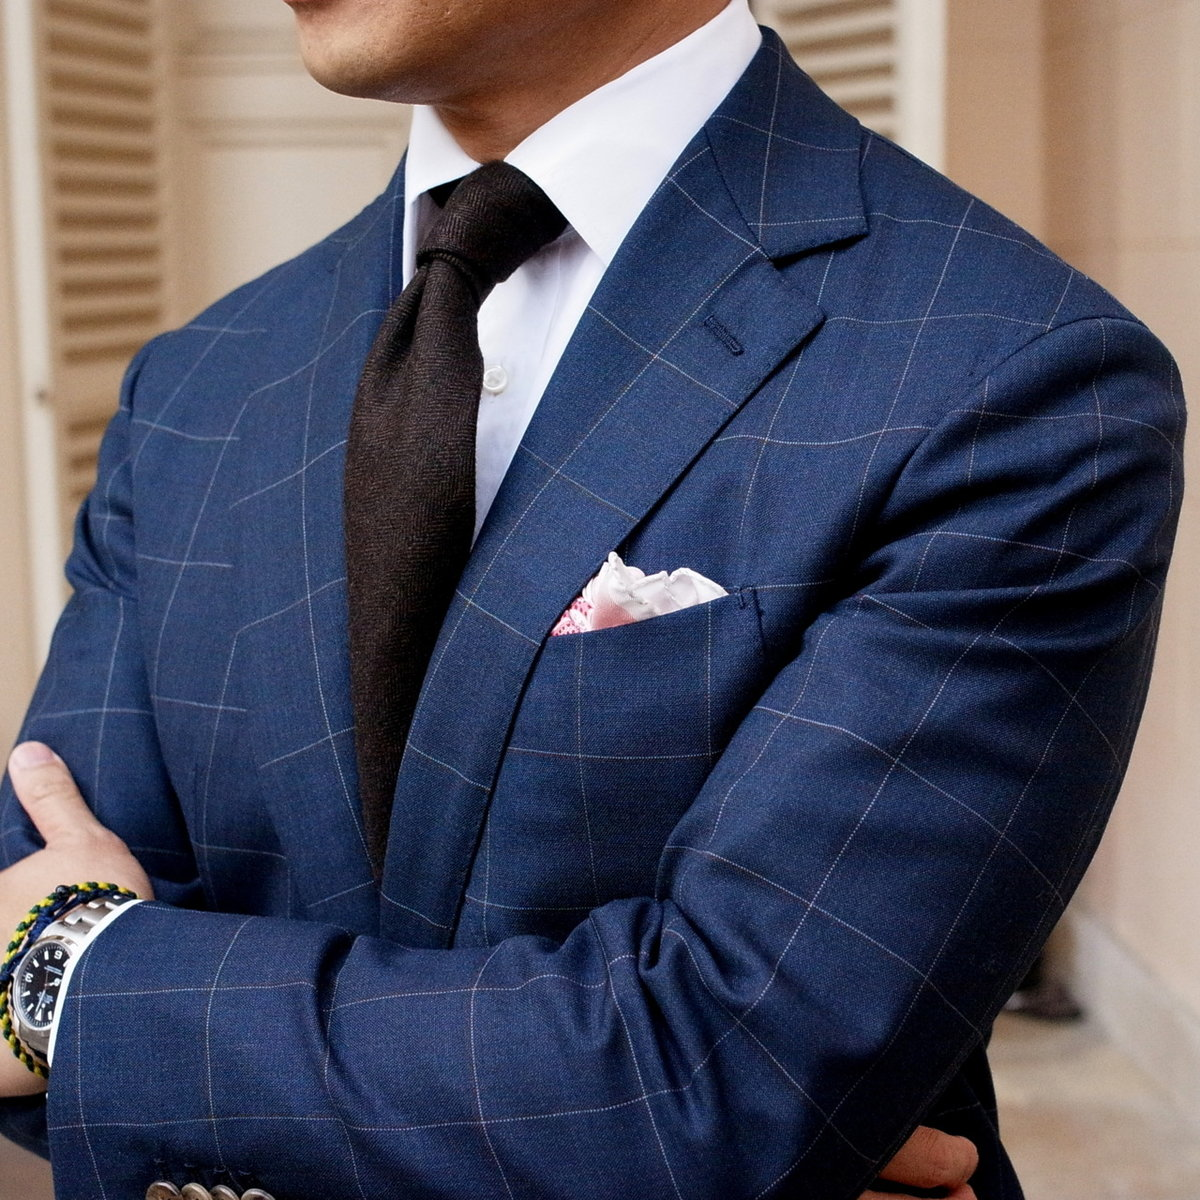tie: (338, 160, 600, 846)
